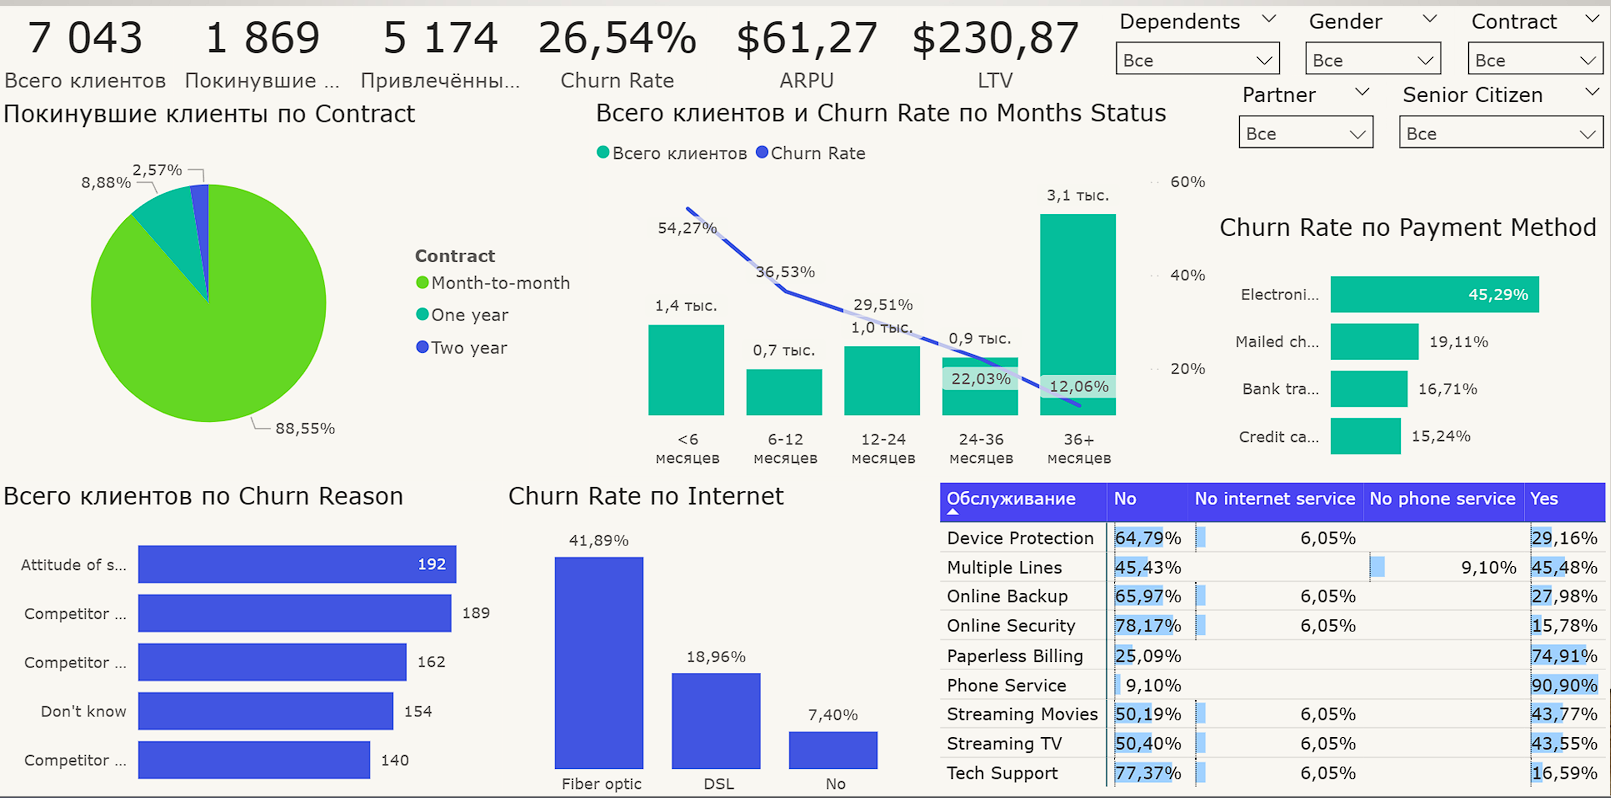

The page's visual inventory and layout, read from the dashboard file:
{"tool":"powerbi","page":{"name":"Страница 1","canvas":[1280,720],"ordinal":0},"visuals":[{"type":"card","fields":{"Values":["Массив данных.Churn Rate"]},"box":[420.7,0,140.2,75],"z":0},{"type":"card","fields":{"Values":["Массив данных.ARPU"]},"box":[570.2,0,140.2,75.1],"z":1000},{"type":"card","fields":{"Values":["Массив данных.LTV"]},"box":[712.1,0,155,75.1],"z":2000},{"type":"clusteredBarChart","fields":{"Category":["Массив данных.Churn Reason"],"Y":["Массив данных.Всего клиентов"]},"box":[0,374.8,397.4,254.6],"z":3000},{"type":"lineClusteredColumnComboChart","fields":{"Category":["Массив данных.Months Status"],"Y":["Массив данных.Всего клиентов"],"Y2":["Массив данных.Churn Rate"]},"box":[468.3,75.1,493.4,296.3],"z":4000},{"type":"clusteredBarChart","fields":{"Category":["Массив данных.Payment Method"],"Y":["Массив данных.Churn Rate"]},"box":[961.7,164.5,318.1,210.4],"z":5000},{"type":"card","fields":{"Values":["Массив данных.Покинувшие клиенты"]},"box":[140.2,0,140.2,75],"z":6000},{"type":"card","fields":{"Values":["Массив данных.Всего клиентов"]},"box":[0,0,140.2,75],"z":7000},{"type":"card","fields":{"Values":["Массив данных.Привлечённые клиенты"]},"box":[280.5,0,140.2,75],"z":8000},{"type":"clusteredColumnChart","fields":{"Category":["Массив данных.Internet Service"],"Y":["Массив данных.Churn Rate"]},"box":[399,374.8,343.1,254.6],"z":9000},{"type":"pivotTable","fields":{"Rows":["Массив данных Обслуживания.Обслуживание"],"Columns":["Массив данных Обслуживания.Статус"],"Values":["Sum(Массив данных Обслуживания.Churn Value)"]},"box":[740.5,371.5,539.3,257.1],"z":10000},{"type":"pieChart","fields":{"Category":["Массив данных.Contract"],"Y":["Массив данных.Покинувшие клиенты"]},"box":[0,76,468.3,298],"z":11000},{"type":"slicer","fields":{"Values":["Массив данных.Contract"]},"box":[1152,0,127.7,57.6],"z":12000},{"type":"slicer","fields":{"Values":["Массив данных.Dependents"]},"box":[874,0,150.3,57.6],"z":13000},{"type":"slicer","fields":{"Values":["Массив данных.Gender"]},"box":[1024.3,0,127.7,57.6],"z":14000},{"type":"slicer","fields":{"Values":["Массив данных.Partner"]},"box":[970.9,57.6,126.9,57.6],"z":15000},{"type":"slicer","fields":{"Values":["Массив данных.Senior Citizen"]},"box":[1097.7,57.6,182,57.6],"z":16000}]}

Visuals, with their boxes on the page's 1280x720 design canvas (x1, y1, x2, y2). These are canvas units, not pixel positions in the 1611x798 screenshot, which may show the page scaled, cropped or inside an application window:
card - Массив данных.Churn Rate: box=[421, 0, 561, 75]
card - Массив данных.ARPU: box=[570, 0, 710, 75]
card - Массив данных.LTV: box=[712, 0, 867, 75]
clusteredBarChart - Массив данных.Churn Reason x Массив данных.Всего клиентов: box=[0, 375, 397, 629]
lineClusteredColumnComboChart - Массив данных.Months Status x Массив данных.Всего клиентов: box=[468, 75, 962, 371]
clusteredBarChart - Массив данных.Payment Method x Массив данных.Churn Rate: box=[962, 164, 1280, 375]
card - Массив данных.Покинувшие клиенты: box=[140, 0, 280, 75]
card - Массив данных.Всего клиентов: box=[0, 0, 140, 75]
card - Массив данных.Привлечённые клиенты: box=[280, 0, 421, 75]
clusteredColumnChart - Массив данных.Internet Service x Массив данных.Churn Rate: box=[399, 375, 742, 629]
pivotTable - Массив данных Обслуживания.Обслуживание x Массив данных Обслуживания.Статус: box=[740, 372, 1280, 629]
pieChart - Массив данных.Contract x Массив данных.Покинувшие клиенты: box=[0, 76, 468, 374]
slicer - Массив данных.Contract: box=[1152, 0, 1280, 58]
slicer - Массив данных.Dependents: box=[874, 0, 1024, 58]
slicer - Массив данных.Gender: box=[1024, 0, 1152, 58]
slicer - Массив данных.Partner: box=[971, 58, 1098, 115]
slicer - Массив данных.Senior Citizen: box=[1098, 58, 1280, 115]
